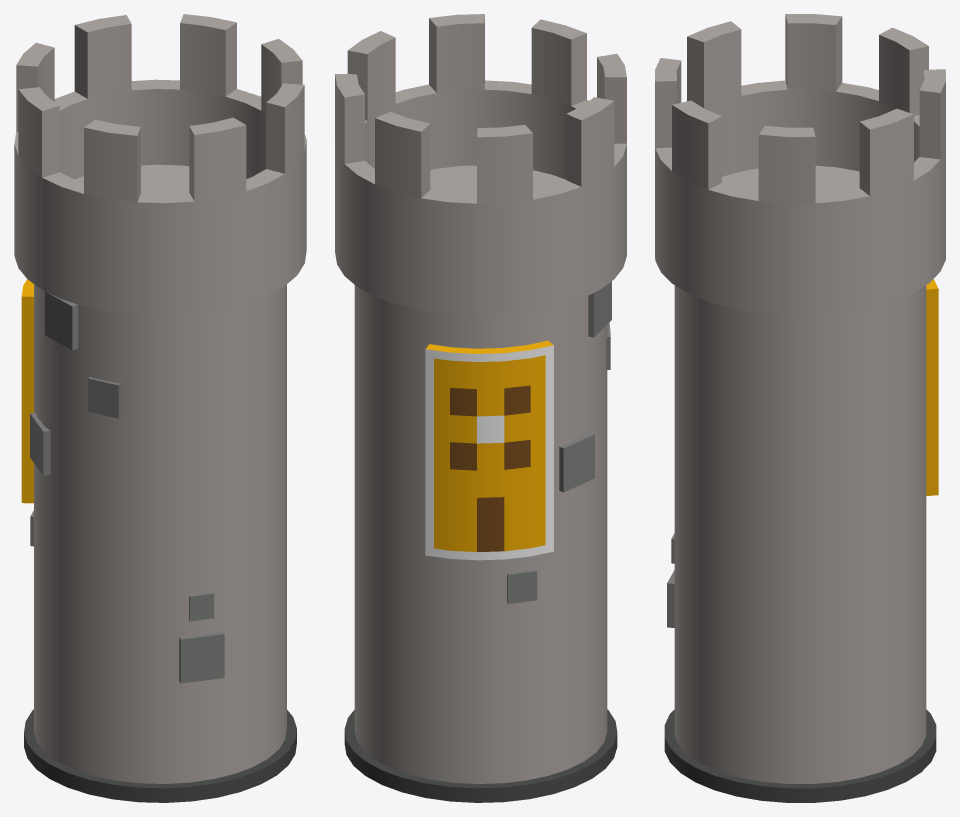
Rendered from SM_Burg_02.fbx.
The picture shows the model from 3 angles, left to right: view 1: azimuth 30°, elevation 25°; view 2: azimuth 150°, elevation 25°; view 3: azimuth 270°, elevation 25°; orthographic projection.
Visible parts, largest first — view 1: Burg_02.001; view 2: Burg_02.001; view 3: Burg_02.001.
Boxes of the visible parts, x1=… form: Burg_02.001: x1=14, y1=14, x2=306, y2=802; Burg_02.001: x1=335, y1=14, x2=626, y2=802; Burg_02.001: x1=655, y1=14, x2=945, y2=802.
Size of the model in its own units: 163 by 415 by 163.
